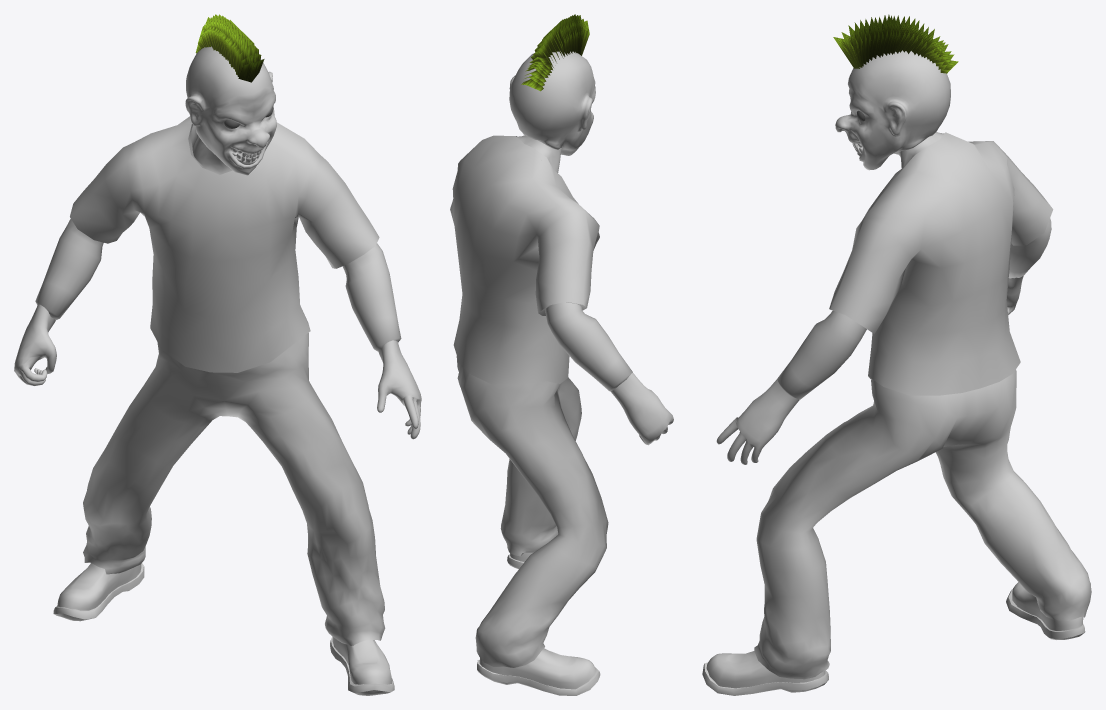
File: Hit (55).obj
The picture shows the model from 3 angles, left to right: view 1: azimuth 30°, elevation 25°; view 2: azimuth 150°, elevation 25°; view 3: azimuth 270°, elevation 25°; orthographic projection. The views are drawn at different scales.
Parts seen in each view (by area): view 1: shirt, pants, head, forearm_band_002, forearm_band_01, boots, boots001, Hair, hand_left, hand_right, neck; view 2: shirt, pants, head, forearm_band_01, boots, hand_right, Hair, neck; view 3: pants, shirt, head, forearm_band_002, Hair, boots001, hand_left, boots, forearm_band_01.
Part boxes in pixels (bbox=[...]): shirt: bbox=[70, 116, 379, 372]; pants: bbox=[83, 333, 385, 645]; head: bbox=[185, 46, 276, 175]; forearm_band_002: bbox=[342, 243, 401, 351]; forearm_band_01: bbox=[35, 219, 103, 320]; boots: bbox=[53, 563, 144, 621]; boots001: bbox=[330, 636, 394, 695]; Hair: bbox=[195, 14, 264, 82]; hand_left: bbox=[377, 340, 421, 439]; hand_right: bbox=[14, 304, 56, 385]; neck: bbox=[190, 122, 232, 174]; shirt: bbox=[450, 135, 599, 384]; pants: bbox=[456, 356, 608, 667]; head: bbox=[509, 51, 595, 155]; forearm_band_01: bbox=[545, 302, 632, 391]; boots: bbox=[477, 648, 600, 695]; hand_right: bbox=[610, 372, 673, 445]; Hair: bbox=[521, 14, 589, 91]; neck: bbox=[517, 135, 562, 172]; pants: bbox=[754, 370, 1091, 679]; shirt: bbox=[829, 132, 1053, 395]; head: bbox=[835, 50, 950, 170]; forearm_band_002: bbox=[777, 311, 866, 399]; Hair: bbox=[833, 14, 958, 73]; boots001: bbox=[702, 651, 828, 695]; hand_left: bbox=[716, 379, 799, 464]; boots: bbox=[1006, 582, 1085, 639]; forearm_band_01: bbox=[1008, 218, 1051, 278].
Bounding box in the file's own units: 87.35 × 178 × 98.2.
